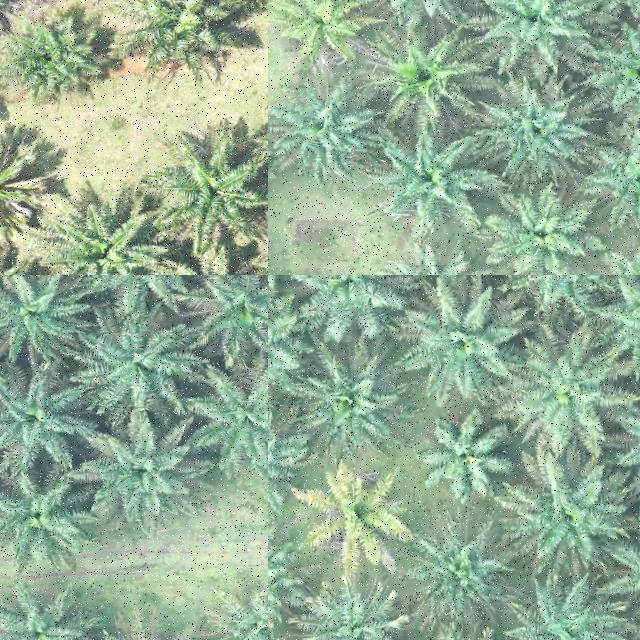Ganoderma: (314, 482, 394, 554), (389, 42, 461, 108), (282, 0, 358, 52)
